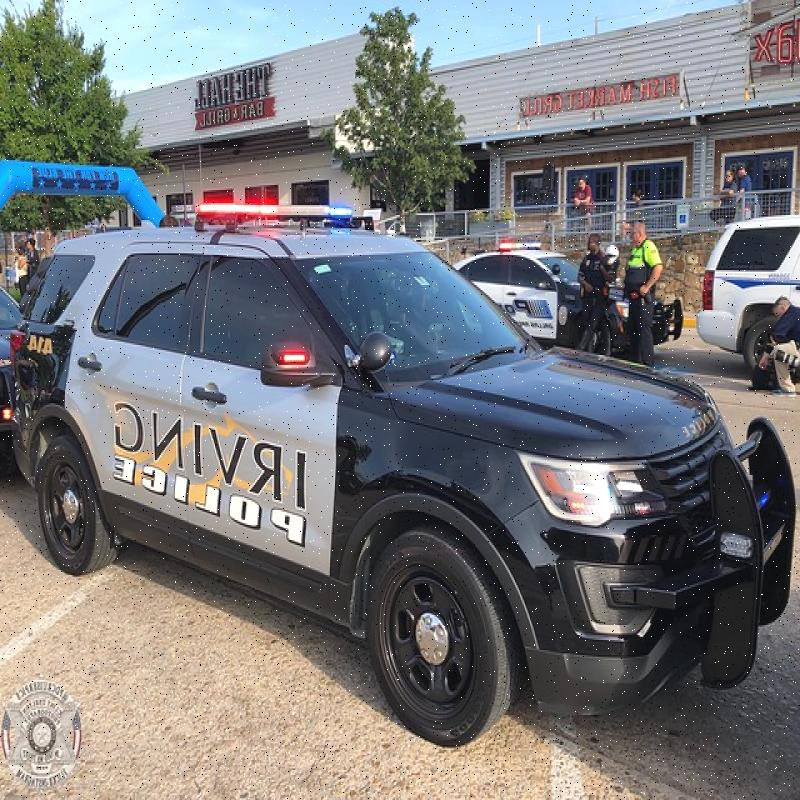AmbulanceSiren: (184, 186, 384, 248)
